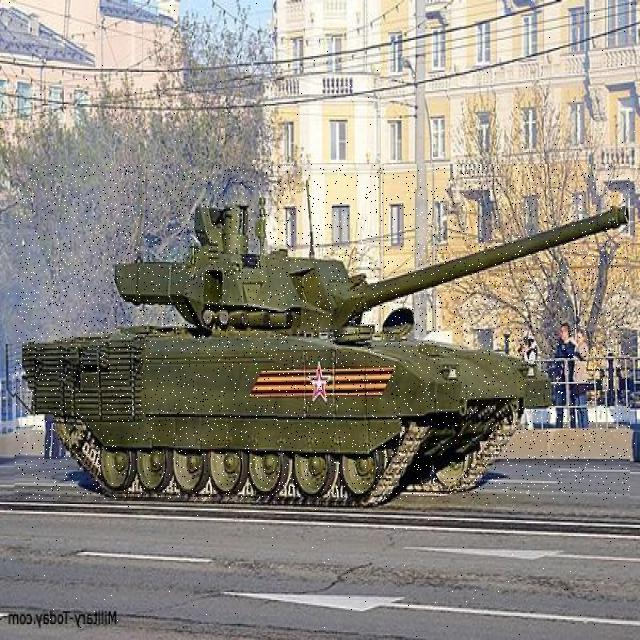MIL_MBT: (15, 164, 630, 499)
